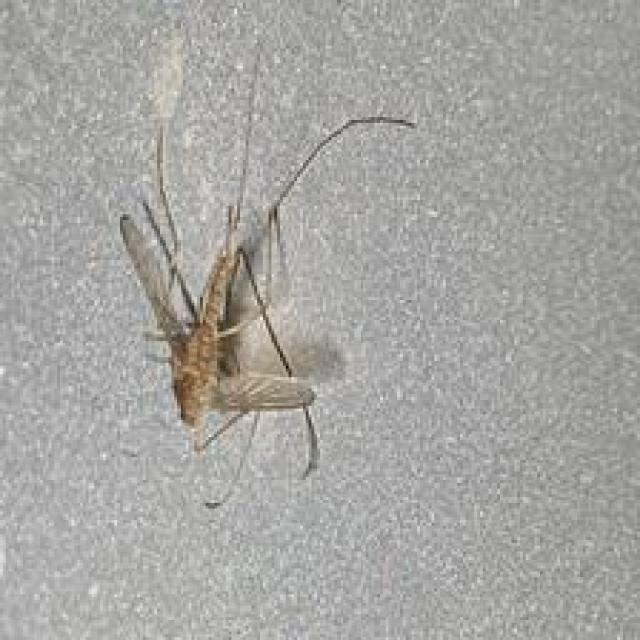Culex: (116, 30, 416, 510)
